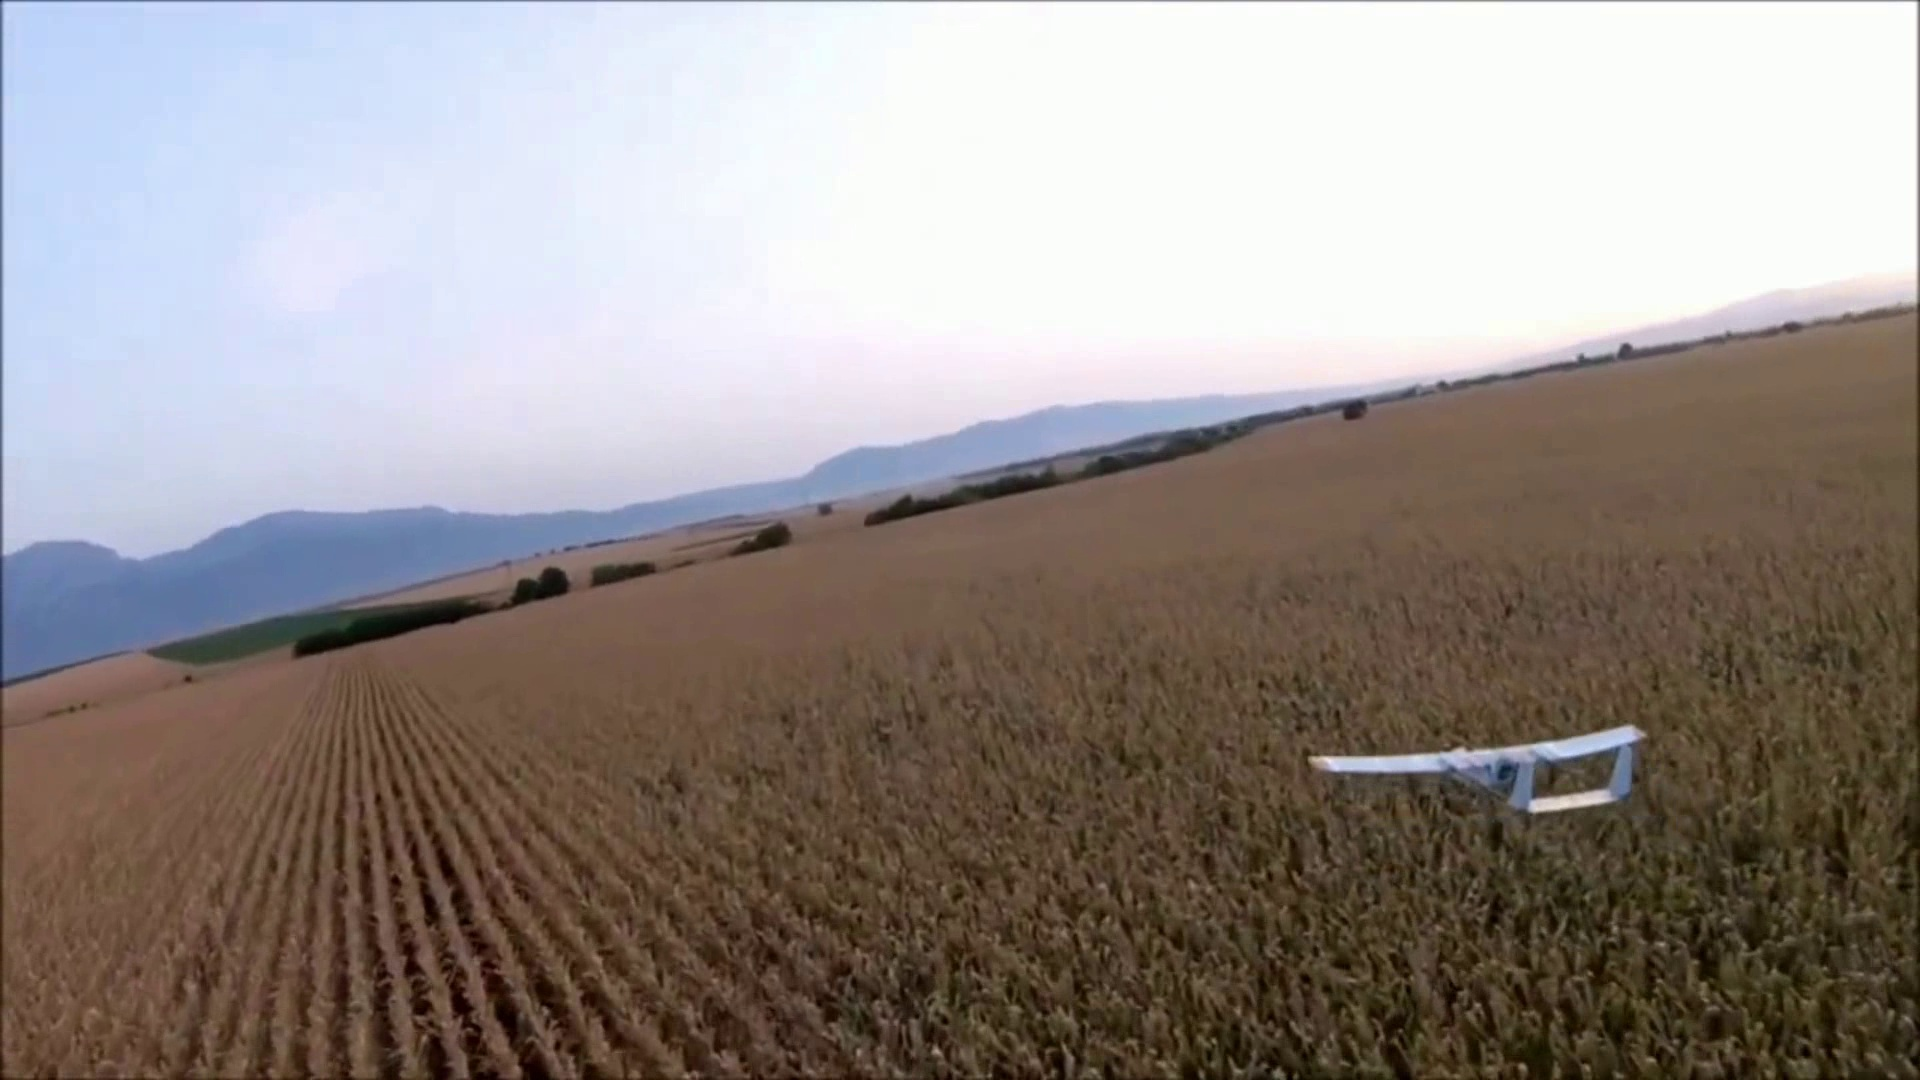airplane: (1313, 727, 1644, 822)
